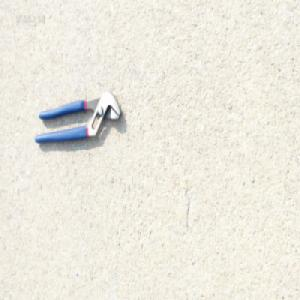Pliers: (33, 88, 122, 145)
